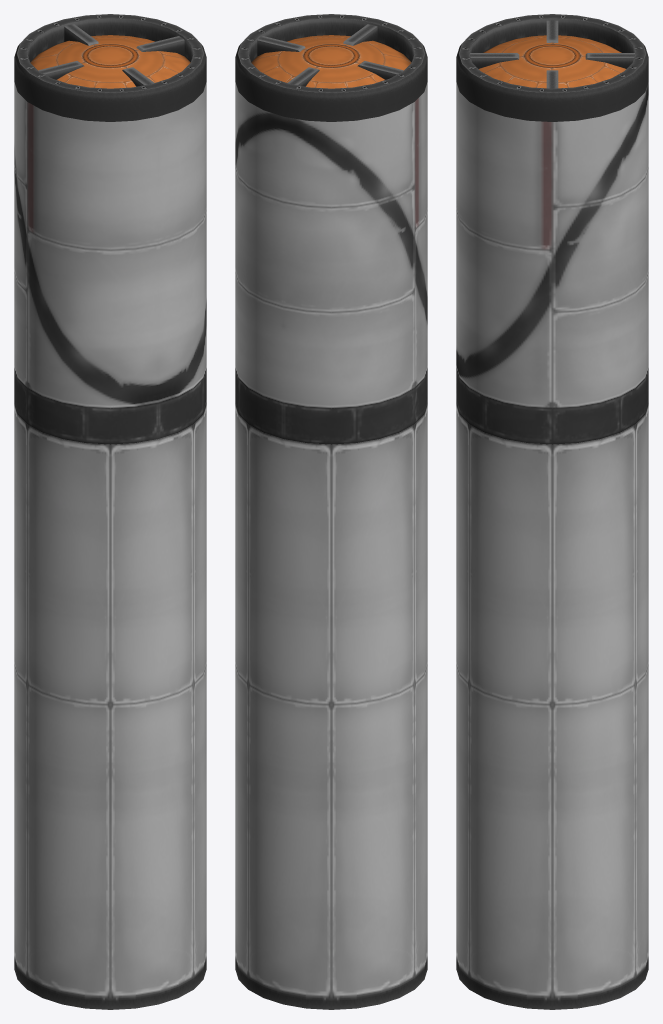
Rendered from bluedog_redstonetank1.dae.
3 views of the same model, side by side, from view 1: azimuth 30°, elevation 25°; view 2: azimuth 150°, elevation 25°; view 3: azimuth 270°, elevation 25° (orthographic).
Visible parts, largest first — view 1: JunoTank1; view 2: JunoTank1; view 3: JunoTank1.
Boxes of the visible parts, x1,y1,x2,y2 form: JunoTank1: (14,14,206,1009); JunoTank1: (235,14,427,1009); JunoTank1: (456,14,648,1009).
Bounding box in the file's own units: 1.25 × 6.56 × 1.25.
